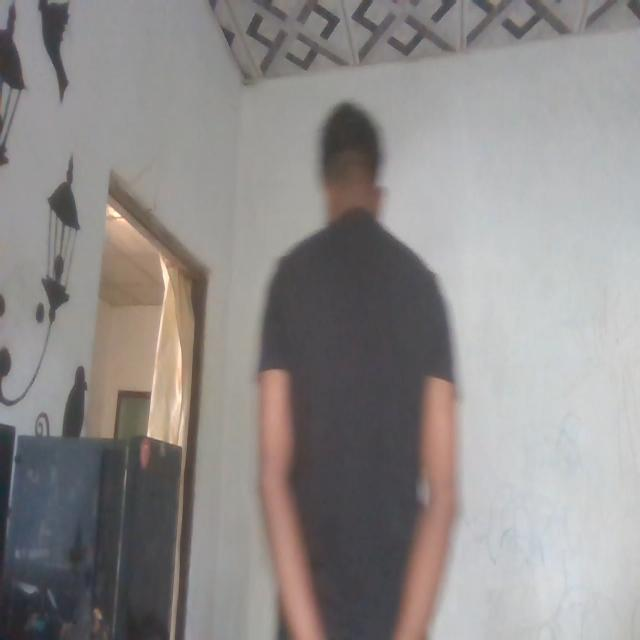Person: (254, 100, 462, 640)
